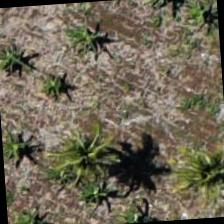Kelapa_Sawit: (43, 106, 139, 202), (162, 123, 223, 218)
